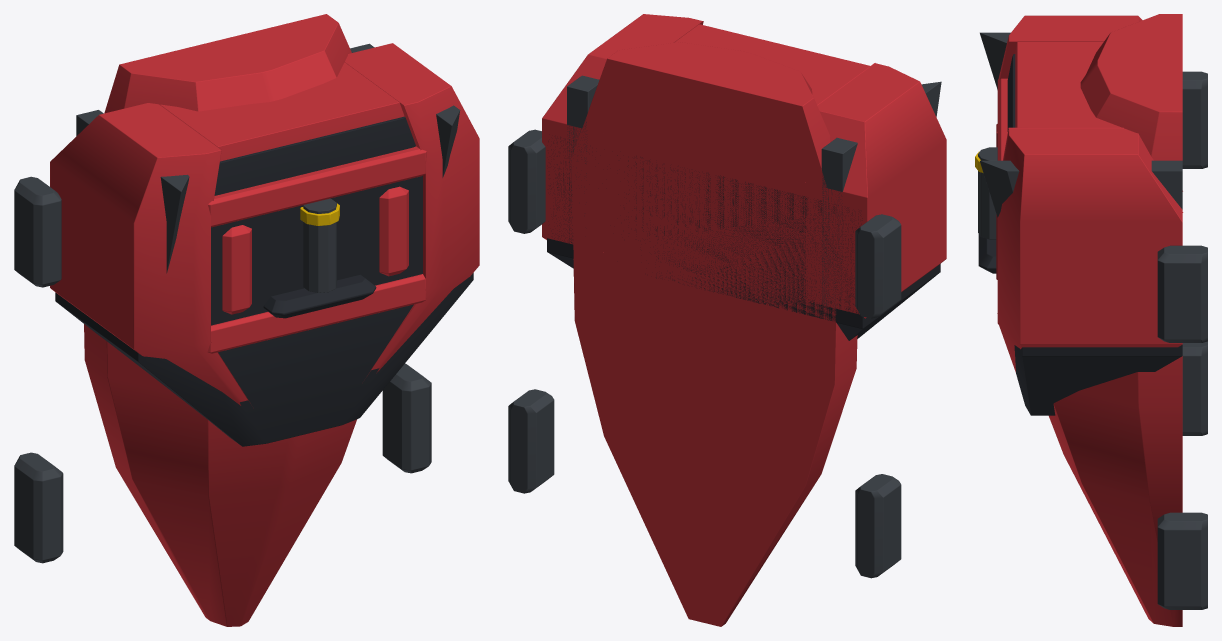
File: ThighFront_Set08_Goliath.fbx
The picture shows the model from 3 angles, left to right: view 1: azimuth 30°, elevation 25°; view 2: azimuth 150°, elevation 25°; view 3: azimuth 270°, elevation 25°; orthographic projection. The views are drawn at different scales.
Parts seen in each view (by area): view 1: ThighFront_Set08_Goliath; view 2: ThighFront_Set08_Goliath; view 3: ThighFront_Set08_Goliath.
Boxes of the visible parts, x1,y1,x2,y2 form: ThighFront_Set08_Goliath: [14, 14, 479, 626]; ThighFront_Set08_Goliath: [508, 14, 946, 626]; ThighFront_Set08_Goliath: [975, 14, 1207, 626].
Size of the model in its own units: 0.53 by 0.73 by 0.2771.
